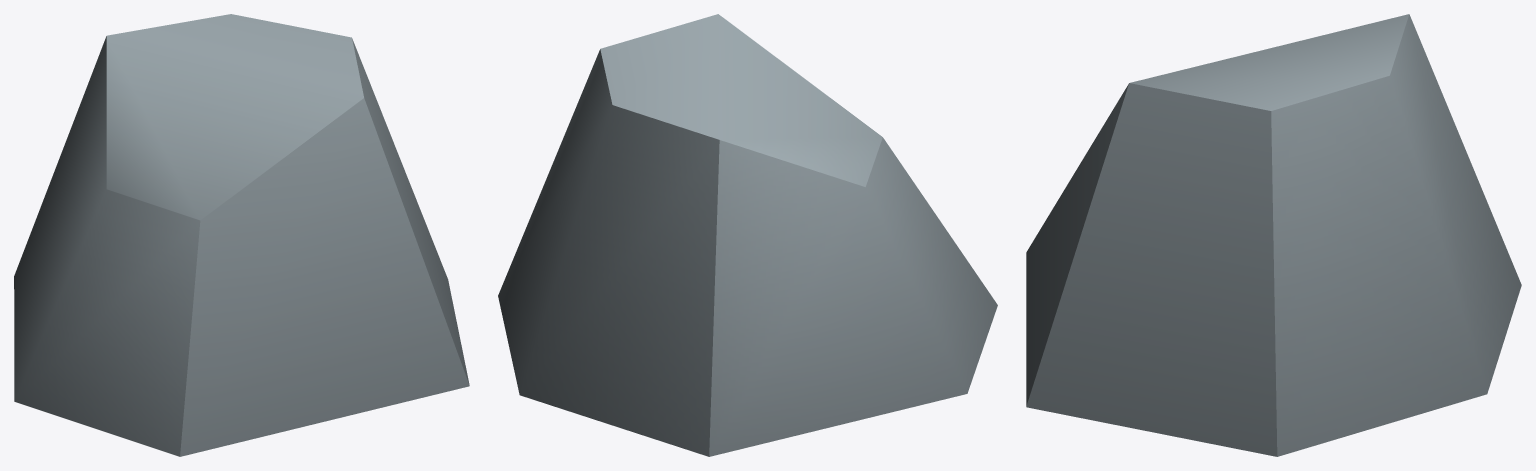
The model's file is rock-single-d.glb.
3 renders of one model, left to right at view 1: azimuth 30°, elevation 25°; view 2: azimuth 150°, elevation 25°; view 3: azimuth 270°, elevation 25°, orthographic. The views are drawn at different scales.
Visible parts, largest first — view 1: rock_single_D; view 2: rock_single_D; view 3: rock_single_D.
Part boxes in pixels (left/top/right/bottom): rock_single_D: left=14, top=14, right=469, bottom=456; rock_single_D: left=498, top=14, right=997, bottom=456; rock_single_D: left=1026, top=14, right=1521, bottom=456.
Size of the model in its own units: 0.2866 by 0.1629 by 0.2497.
Materials: 1 (1 with a texture image).
